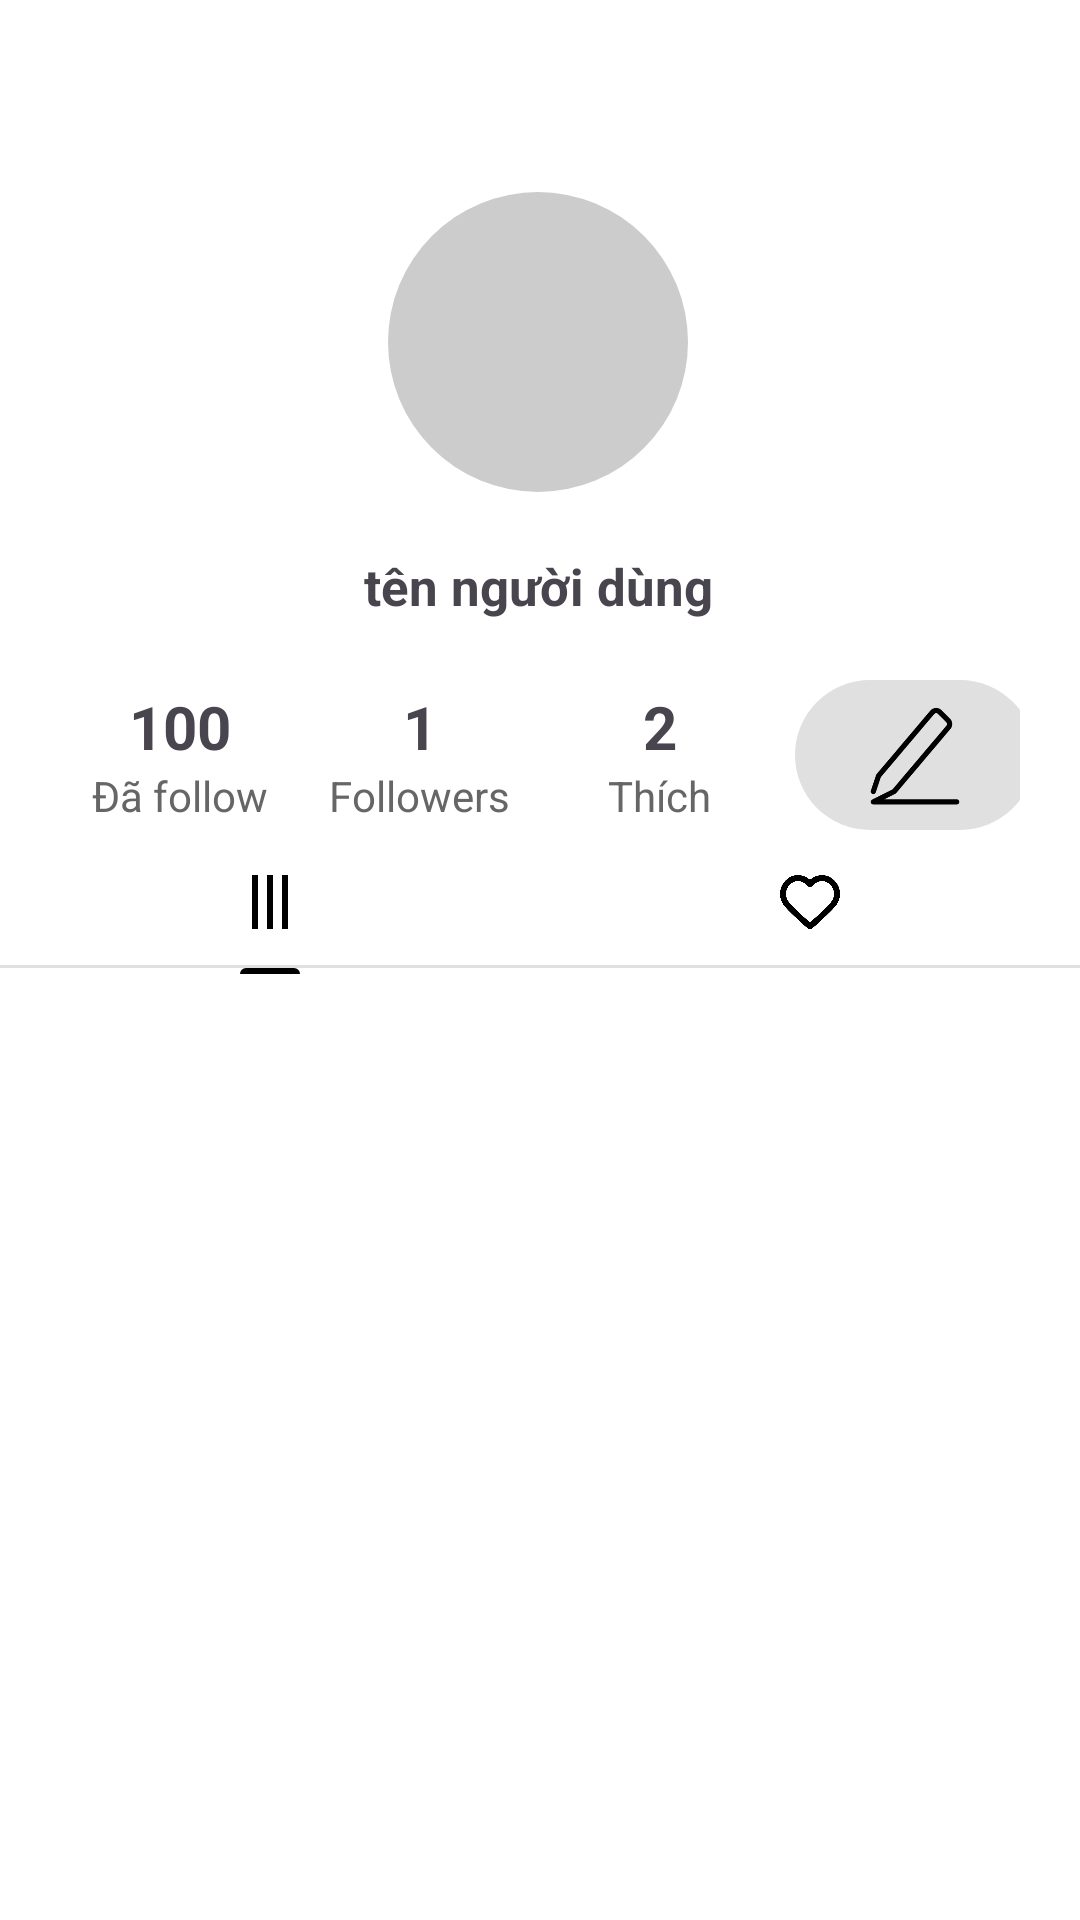

Where to tap for icons on this 1080w x 1920h app screen, as (x=x, y=y):
edit: (x=907, y=755)
